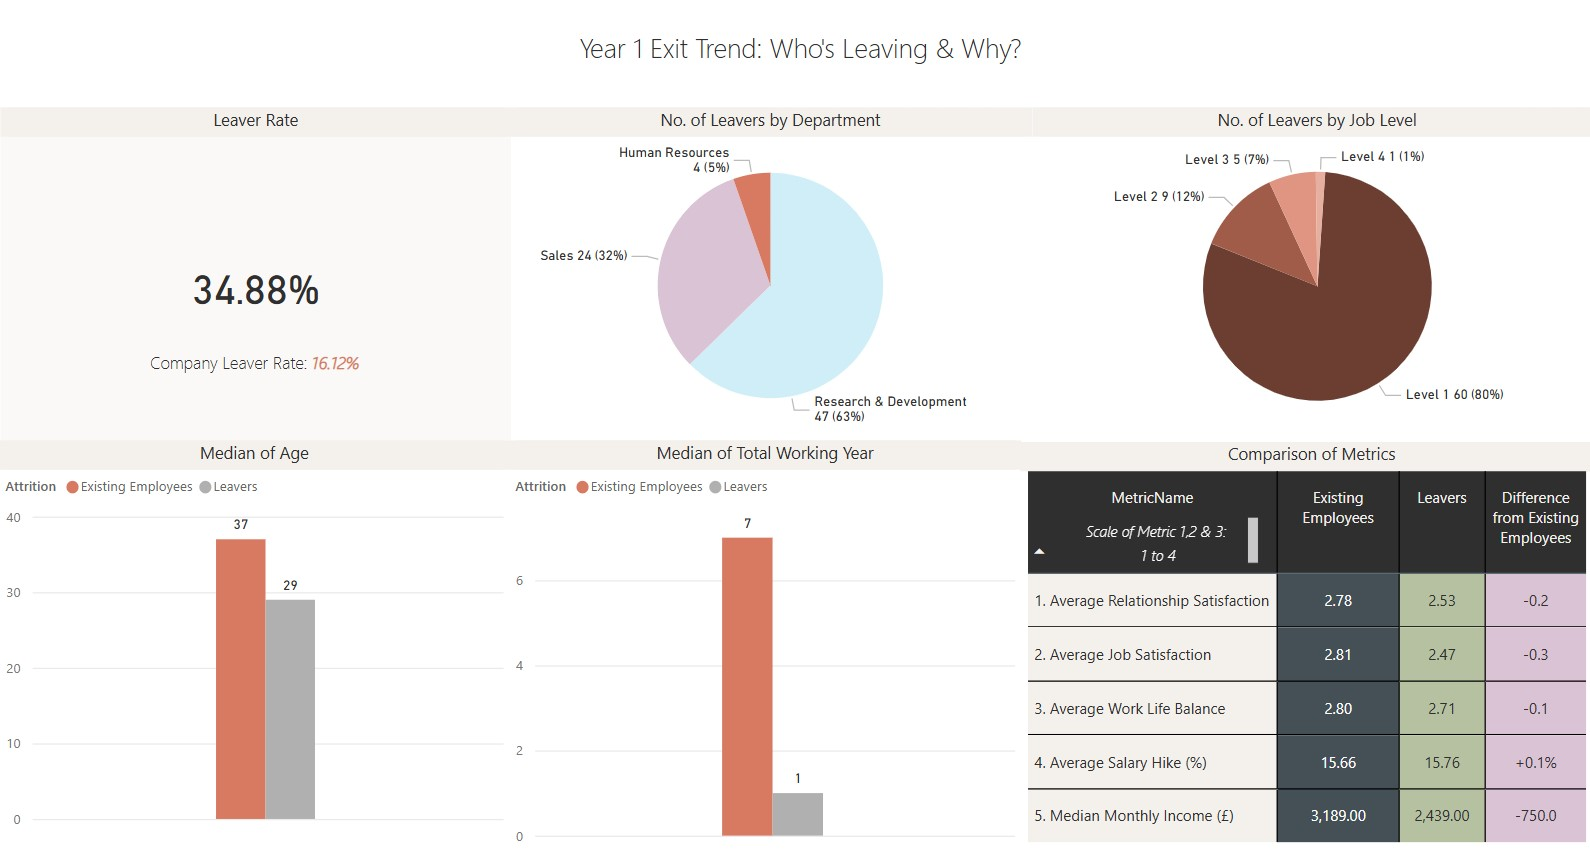

What the dashboard file says about the page in this screenshot:
{"tool":"powerbi","page":{"name":"Year 1 Exit Trend","canvas":[1280,720],"ordinal":2},"visuals":[{"type":"card","title":"Leaver Rate","fields":{"Values":["HR Data_20250501.Attrition Rate (%)"]},"box":[1.2,95,407.5,266.8],"z":0},{"type":"pieChart","title":"No. of Leavers by Department","fields":{"Category":["HR Data_20250501.Department"],"Y":["Sum(HR Data_20250501.EmployeeCount)"]},"box":[407.5,95,417.1,265.6],"z":1000},{"type":"clusteredColumnChart","title":"Median of Age","fields":{"Series":["HR Data_20250501.Attrition"],"Y":["Median(HR Data_20250501.Age)"]},"box":[0,360.6,407.5,314.9],"z":2000},{"type":"tableEx","title":"Comparison of Metrics","fields":{"Values":["MetricLabelTable.MetricName","HR Data_20250501.Selected_NonLeaver_Value","HR Data_20250501.Selected_Leaver_Value","HR Data_20250501.Selected_Diff_Value"]},"box":[815.4,361.4,464.6,357.8],"z":3000},{"type":"textbox","box":[0,26.4,1278.9,39.7],"z":4000},{"type":"pieChart","title":"No. of Leavers by Job Level","fields":{"Category":["HR Data_20250501.JobLevel"],"Y":["Sum(HR Data_20250501.EmployeeCount)"]},"box":[824.6,95,454.4,266.8],"z":5000},{"type":"clusteredColumnChart","title":"Median of Total Working Year","fields":{"Series":["HR Data_20250501.Attrition"],"Y":["Median(HR Data_20250501.TotalWorkingYears)"]},"box":[407.5,360.6,408.7,328.1],"z":6000},{"type":"textbox","box":[848.6,417.1,161.1,46.9],"z":7000},{"type":"textbox","box":[107,282.5,194.7,34.9],"z":7001}]}

Visuals, with their boxes on the page's 1280x720 design canvas (x1, y1, x2, y2). These are canvas units, not pixel positions in the 1590x868 screenshot, which may show the page scaled, cropped or inside an application window:
"Leaver Rate" card: x1=1, y1=95, x2=409, y2=362
"No. of Leavers by Department" pieChart: x1=408, y1=95, x2=825, y2=361
"Median of Age" clusteredColumnChart: x1=0, y1=361, x2=408, y2=676
"Comparison of Metrics" tableEx: x1=815, y1=361, x2=1280, y2=719
textbox: x1=0, y1=26, x2=1279, y2=66
"No. of Leavers by Job Level" pieChart: x1=825, y1=95, x2=1279, y2=362
"Median of Total Working Year" clusteredColumnChart: x1=408, y1=361, x2=816, y2=689
textbox: x1=849, y1=417, x2=1010, y2=464
textbox: x1=107, y1=282, x2=302, y2=317
